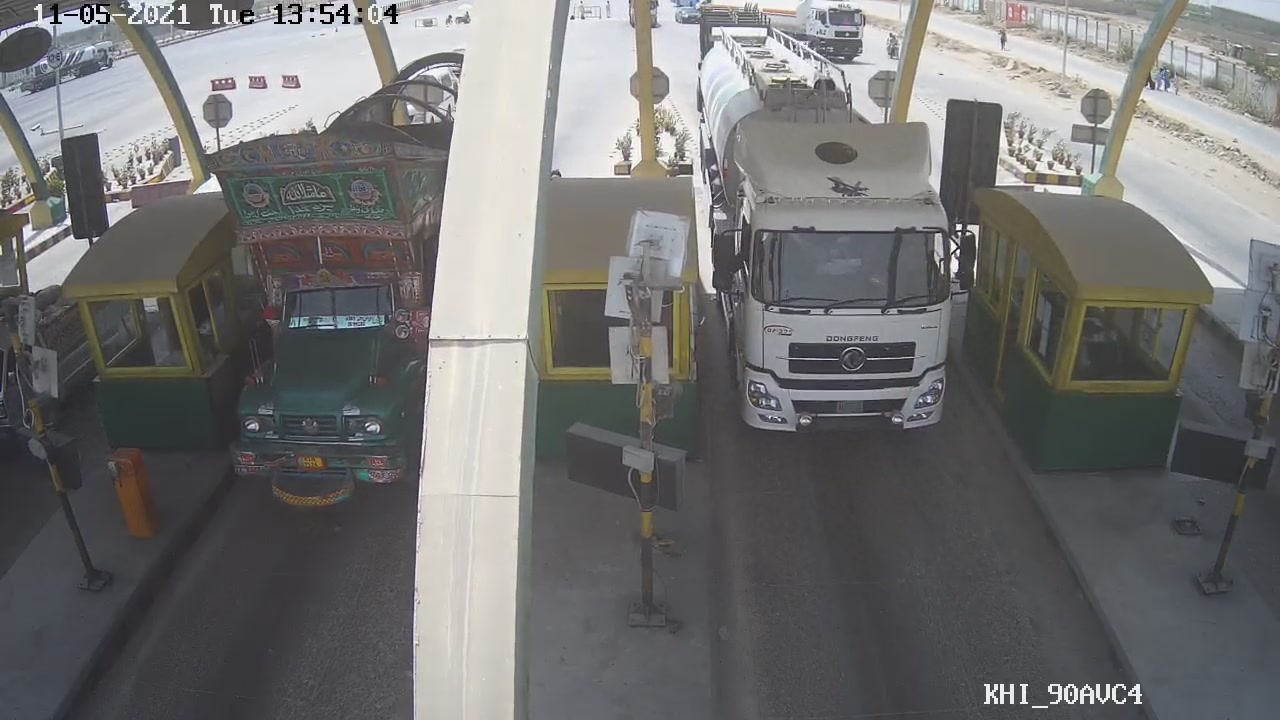F6: (689, 39, 985, 440)
